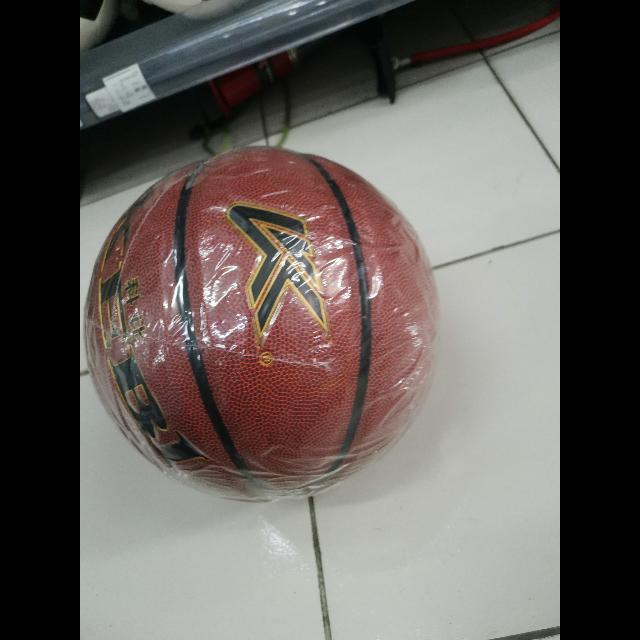basketball: (88, 150, 438, 502)
